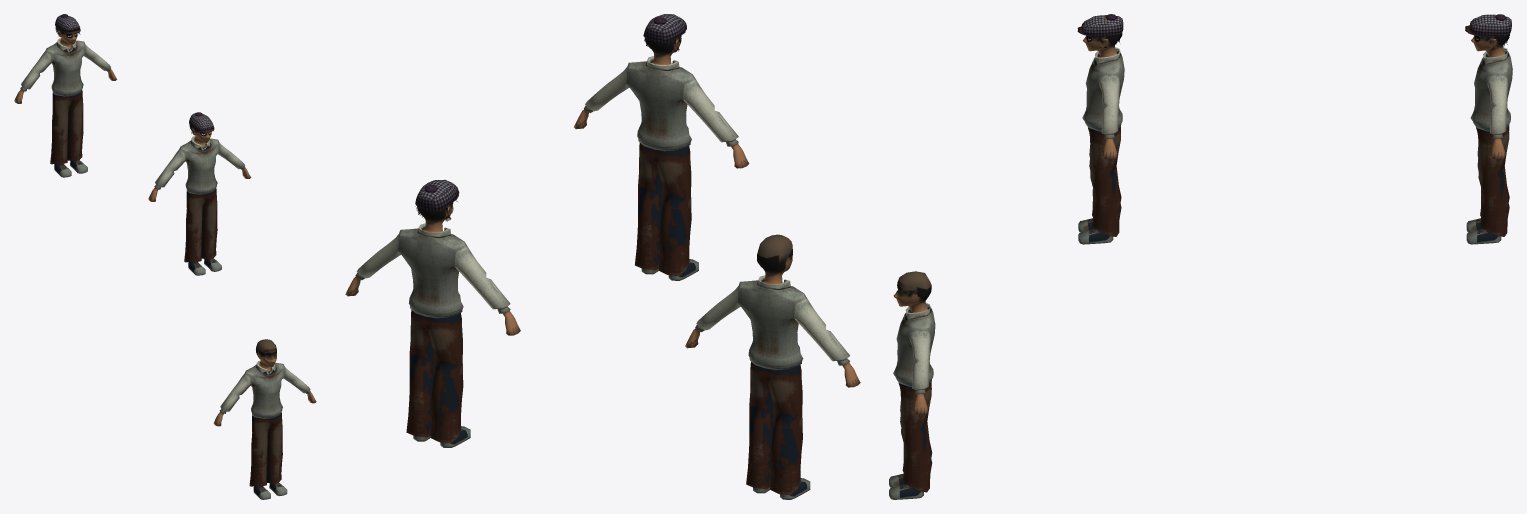
The model's file is VirtueBase.obj.
3 renders of one model, left to right at view 1: azimuth 30°, elevation 25°; view 2: azimuth 150°, elevation 25°; view 3: azimuth 270°, elevation 25°, orthographic. The views are drawn at different scales.
Visible parts, largest first — view 1: Cube.006, Cube.002, Cube.001, Plane; view 2: Cube.006, Cube.002, Cube.001, Plane; view 3: Cube.006, Cube.002, Cube.001, Plane.
Boxes of the visible parts, left/top/right/bottom form: Cube.006: left=148, top=112, right=251, bottom=275; Cube.002: left=213, top=339, right=316, bottom=499; Cube.001: left=14, top=28, right=116, bottom=177; Plane: left=55, top=14, right=80, bottom=33; Cube.006: left=574, top=14, right=749, bottom=280; Cube.002: left=685, top=234, right=860, bottom=499; Cube.001: left=345, top=202, right=520, bottom=447; Plane: left=415, top=179, right=459, bottom=211; Cube.006: left=1077, top=14, right=1124, bottom=244; Cube.002: left=889, top=271, right=935, bottom=499; Cube.001: left=1466, top=35, right=1512, bottom=244; Plane: left=1465, top=14, right=1511, bottom=36.
Size of what is drawn, in the model's own units: 3.62 by 11.31 by 13.44.
